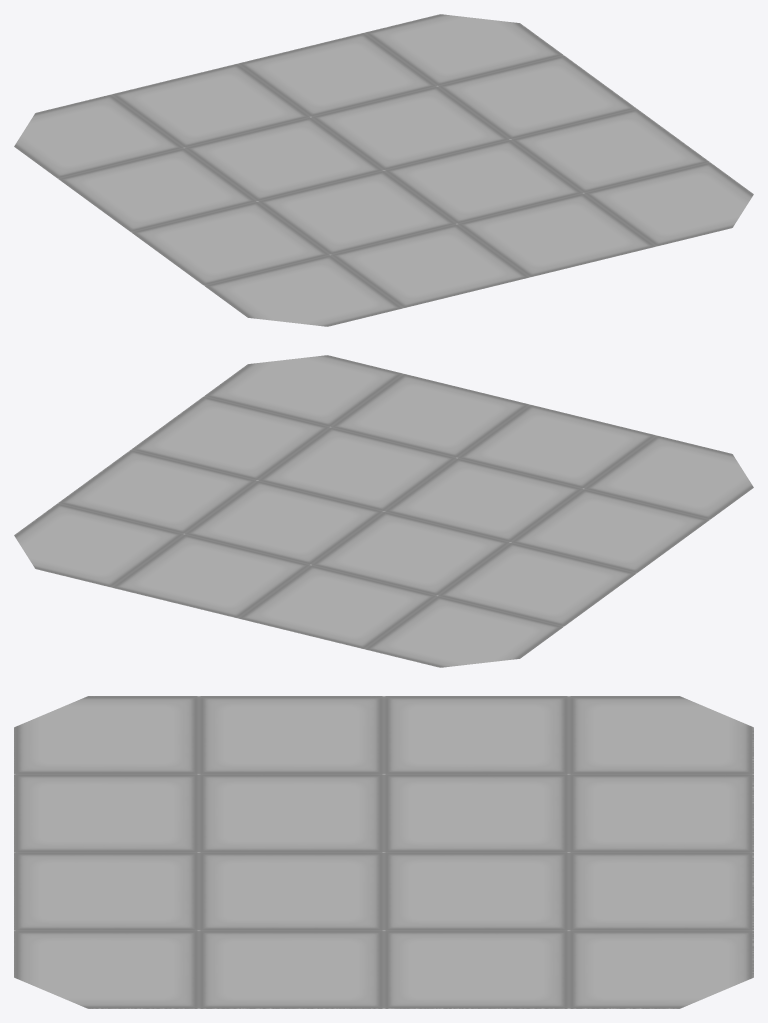
File: SM_Lounge_Floor_grass.fbx
3 views of the same model, one above another, from view 1: azimuth 30°, elevation 25°; view 2: azimuth 150°, elevation 25°; view 3: azimuth 270°, elevation 25° (orthographic). The views are drawn at different scales.
Parts seen in each view (by area): view 1: SM_Lounge_Floor_grass; view 2: SM_Lounge_Floor_grass; view 3: SM_Lounge_Floor_grass.
Part boxes in pixels (bbox=[...]): SM_Lounge_Floor_grass: bbox=[14, 14, 753, 326]; SM_Lounge_Floor_grass: bbox=[14, 355, 753, 667]; SM_Lounge_Floor_grass: bbox=[14, 696, 753, 1008].
Bounding box in the file's own units: 200 × 0 × 200.
1 material, 1 textured.
